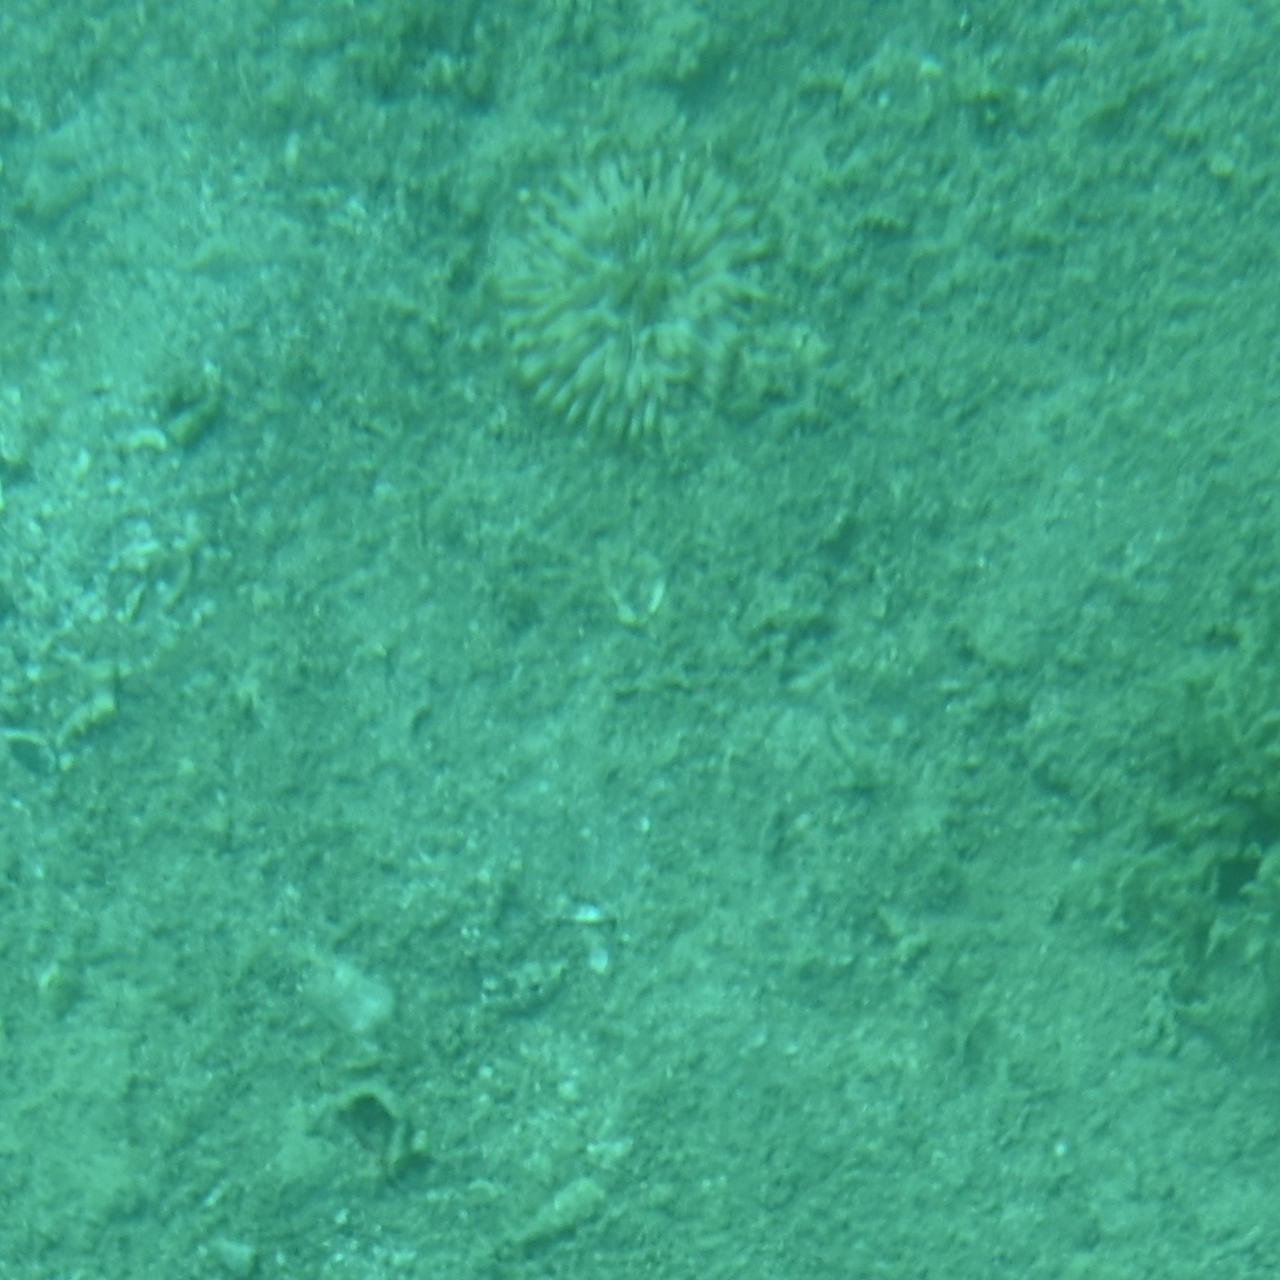Condylactis aurantiaca: (437, 125, 843, 490)
